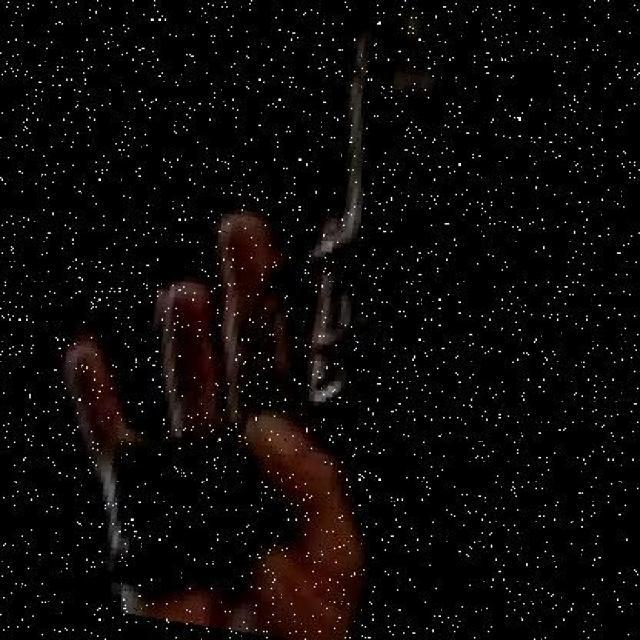rifle: (97, 31, 442, 640)
